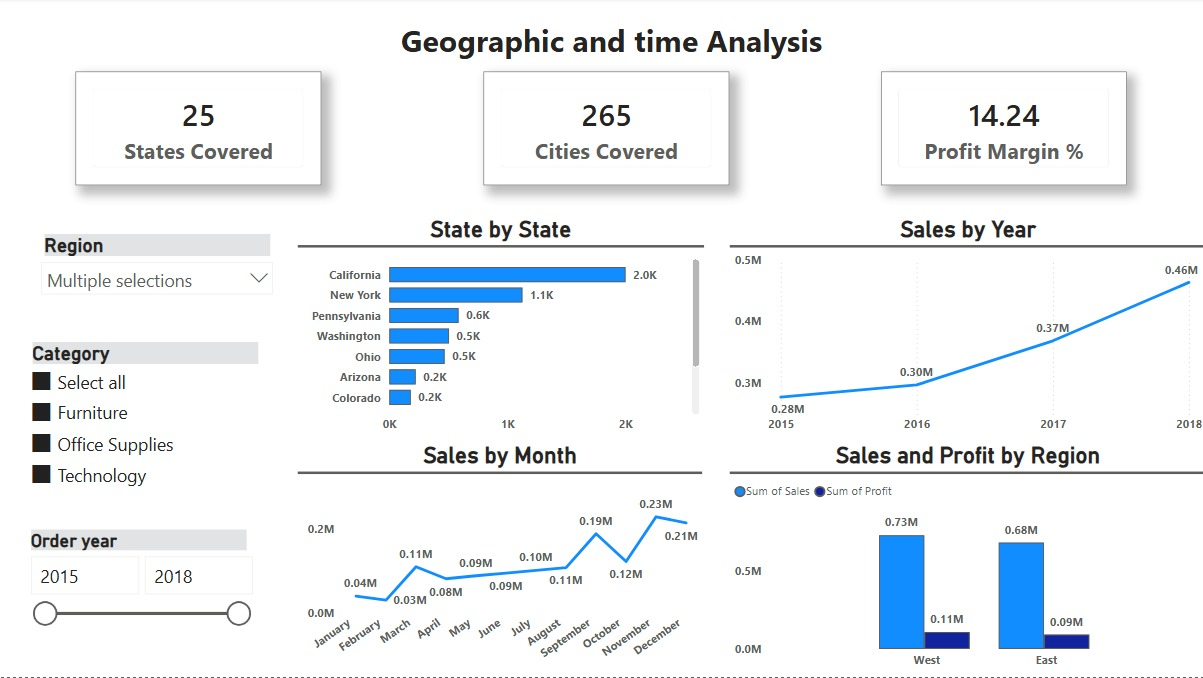

The dashboard page shown, as its layout file describes it:
{"tool":"powerbi","page":{"name":"Page 3","canvas":[1280,720],"ordinal":2},"visuals":[{"type":"slicer","fields":{"Values":["superstore_cleaned.Region"]},"box":[35,245,265.6,84.3],"z":0},{"type":"slicer","fields":{"Values":["superstore_cleaned.Category"]},"box":[22.3,359.5,265.6,173.4],"z":1000},{"type":"slicer","fields":{"Values":["superstore_cleaned.Order_year"]},"box":[20,558.3,255,161.7],"z":2000},{"type":"textbox","box":[19.5,17.9,1261.1,60.1],"z":3000},{"type":"clusteredBarChart","title":"State by State","fields":{"Category":["superstore_cleaned.State"],"Y":["CountNonNull(superstore_cleaned.State)"]},"box":[316.5,230.6,431.1,240.2],"z":4000},{"type":"lineChart","title":"Sales by Year","fields":{"Category":["superstore_cleaned.Order Date.Variation.Date Hierarchy.Year"],"Y":["Sum(superstore_cleaned.Sales)"]},"box":[774.6,230.6,505.8,240.2],"z":5000},{"type":"lineChart","title":"Sales by Month","fields":{"Category":["superstore_cleaned.Order Date.Variation.Date Hierarchy.Month"],"Y":["Sum(superstore_cleaned.Sales)"]},"box":[316.5,470.8,429.5,249.7],"z":6000},{"type":"clusteredColumnChart","title":"Sales and Profit by Region","fields":{"Category":["superstore_cleaned.Region"],"Y":["Sum(superstore_cleaned.Sales)","Sum(superstore_cleaned.Profit)"]},"box":[774.6,470.8,505.8,249.7],"z":7000},{"type":"cardVisual","fields":{"Data":["superstore_cleaned.States Covered"]},"box":[81.1,77.9,260.9,120.9],"z":8000},{"type":"cardVisual","fields":{"Data":["superstore_cleaned.Profit Margin %"]},"box":[935.3,77.9,260.9,120.9],"z":9000},{"type":"cardVisual","fields":{"Data":["superstore_cleaned.Cities Covered"]},"box":[513.8,77.9,260.9,120.9],"z":10000}]}

Visuals, with their boxes in screenshot pixels (x1, y1, x2, y2), scaled from the page's 1280x720 canvas onto the 1203x678 screenshot:
slicer - superstore_cleaned.Region: bbox(33, 231, 283, 310)
slicer - superstore_cleaned.Category: bbox(21, 339, 271, 502)
slicer - superstore_cleaned.Order_year: bbox(19, 526, 258, 677)
textbox: bbox(18, 17, 1202, 73)
"State by State" clusteredBarChart: bbox(297, 217, 703, 443)
"Sales by Year" lineChart: bbox(728, 217, 1202, 443)
"Sales by Month" lineChart: bbox(297, 443, 701, 677)
"Sales and Profit by Region" clusteredColumnChart: bbox(728, 443, 1202, 677)
cardVisual - superstore_cleaned.States Covered: bbox(76, 73, 321, 187)
cardVisual - superstore_cleaned.Profit Margin %: bbox(879, 73, 1124, 187)
cardVisual - superstore_cleaned.Cities Covered: bbox(483, 73, 728, 187)
